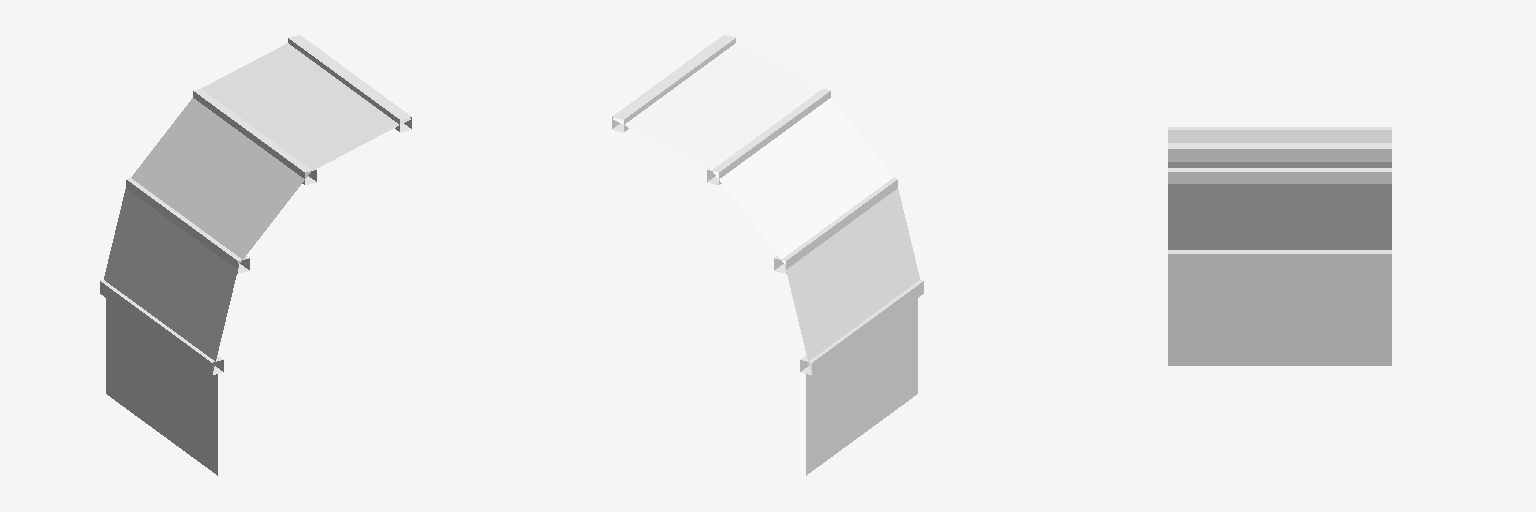
The model's file is mt_awning_basket_middle.obj.
3 renders of one model, left to right at view 1: azimuth 30°, elevation 25°; view 2: azimuth 150°, elevation 25°; view 3: azimuth 270°, elevation 25°, orthographic.
Parts seen in each view (by area): view 1: cube, cube.001, cube.000, cube.002, cube.006, cube.003, cube.005, cube.004; view 2: cube, cube.001, cube.000, cube.002, cube.006, cube.003, cube.005, cube.004; view 3: cube.002, cube.000, cube.006, cube.003, cube.004, cube.001, cube, cube.005.
Part boxes in pixels (x1,y1,x2,y2): cube: (131,98,310,263); cube.001: (201,43,410,170); cube.000: (104,188,238,375); cube.002: (106,298,217,475); cube.006: (288,35,411,132); cube.003: (100,280,223,374); cube.005: (193,89,316,184); cube.004: (126,178,249,273); cube: (713,98,892,263); cube.001: (613,43,822,170); cube.000: (785,188,919,375); cube.002: (806,298,917,475); cube.006: (612,35,735,132); cube.003: (800,280,923,374); cube.005: (707,89,830,184); cube.004: (774,178,897,273); cube.002: (1168,267,1391,365); cube.000: (1168,184,1391,249); cube.006: (1168,143,1391,161); cube.003: (1168,250,1391,266); cube.004: (1168,168,1391,183); cube.001: (1168,130,1391,142); cube: (1168,162,1391,167); cube.005: (1168,127,1391,129).
Bounding box in the file's own units: 1.03 × 1.53 × 1.